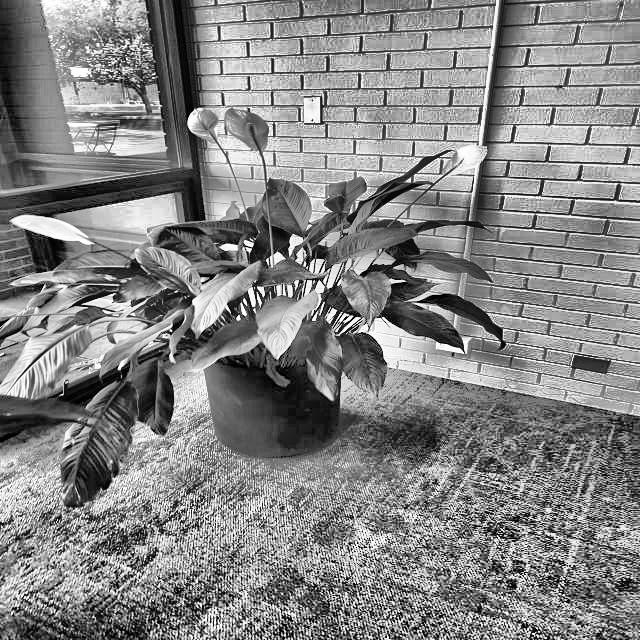plants: (102, 202, 462, 376)
